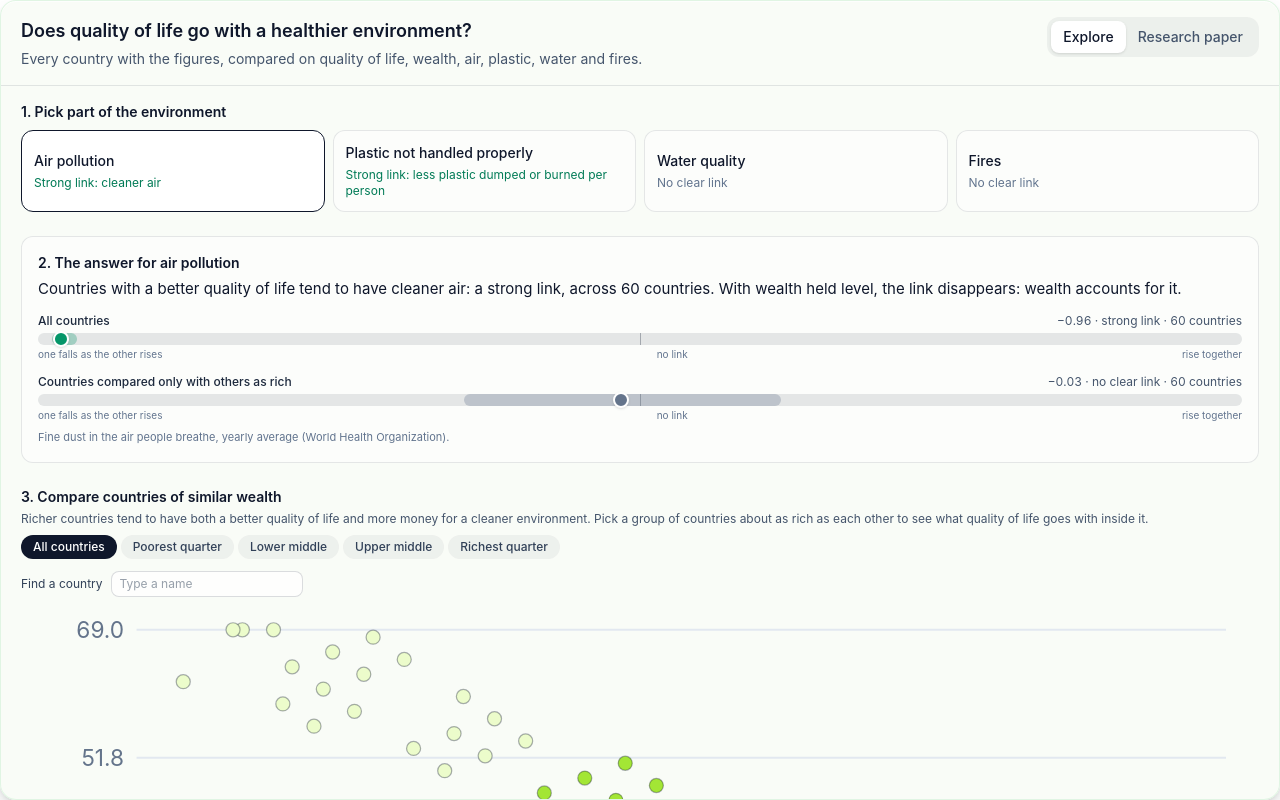
Test case: Findings — Explore › finds a country by name and shows its figures
This screenshot has width=1280, height=800.
In the search field labelled "Find a country": [206, 584] box 110,571 -> 302,597, type "examp"
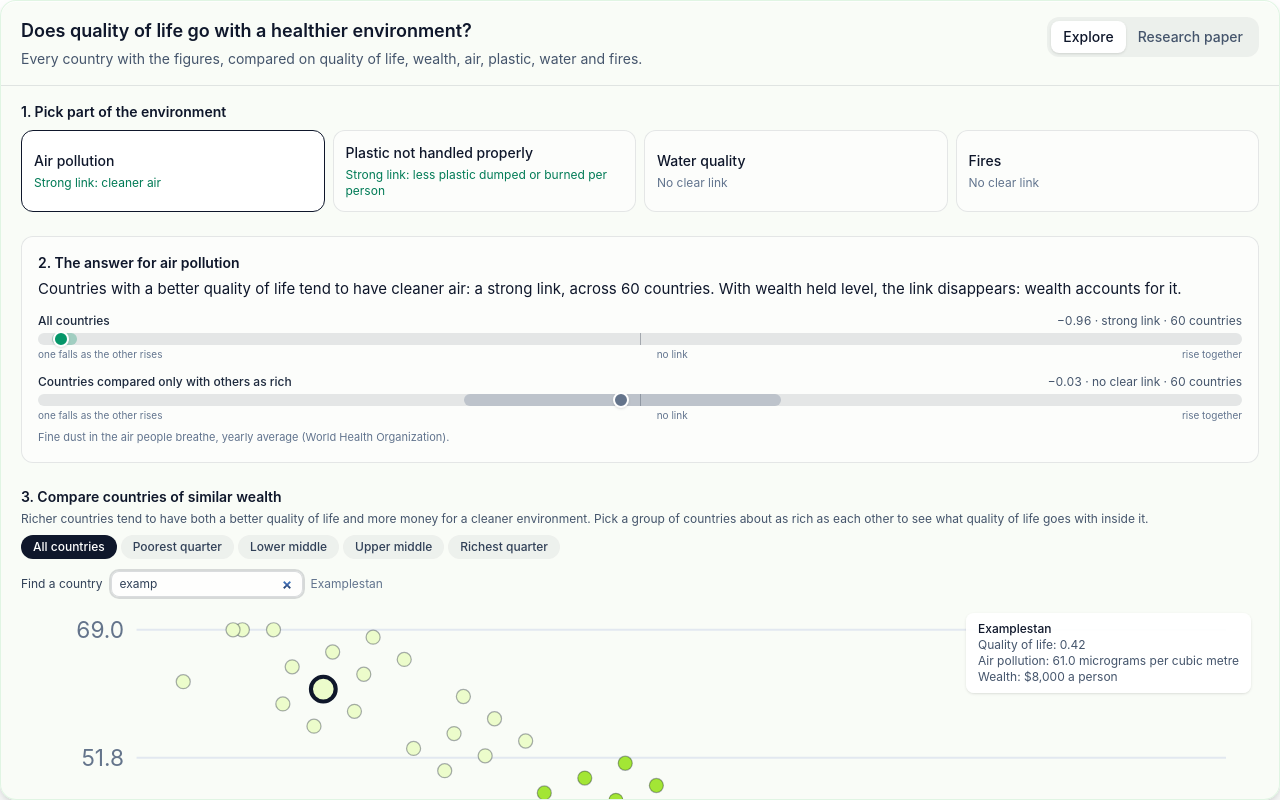
Expected: the message named "Country" shows "Examplestan", 978,621 -> 1052,636
Expected: the message named "Country" shows "Wealth: $8,000 a person", 966,613 -> 1251,693
